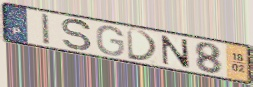8: (195, 42, 225, 75)
D: (125, 27, 160, 63)
G: (95, 25, 126, 57)
I: (40, 12, 52, 47)
N: (159, 34, 193, 71)
S: (60, 18, 94, 53)
